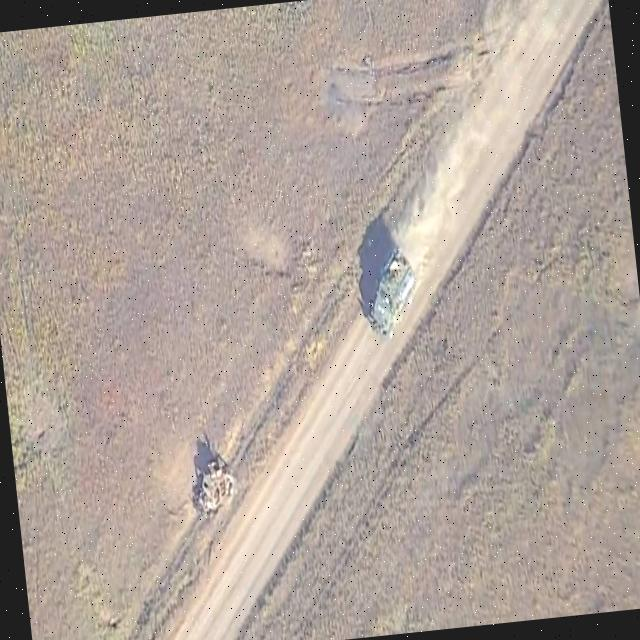Destroyed: (190, 456, 242, 521)
Vehicle: (361, 242, 425, 348)
